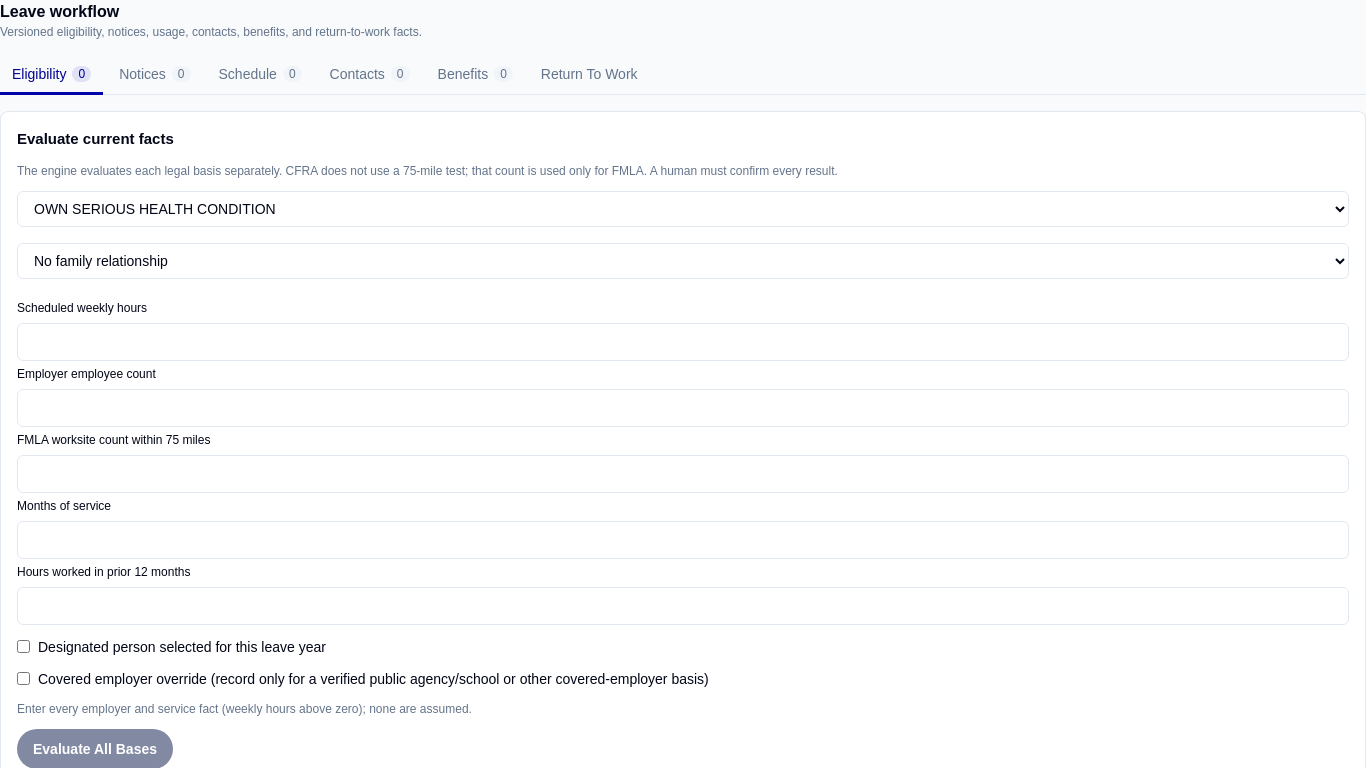
Test: MhdLeaveWorkflowPanel eligibility facts › stays disabled for a negative count or zero weekly hours
Type "30" into the number field labelled "Scheduled weekly hours". click: [683, 342]
box: [17,322,1349,360]
Type "62" into the number field labelled "Employer employee count". click: [683, 408]
box: [17,388,1349,426]
Type "58" into the number field labelled "FMLA worksite count within 75 miles". click: [683, 474]
box: [17,454,1349,492]
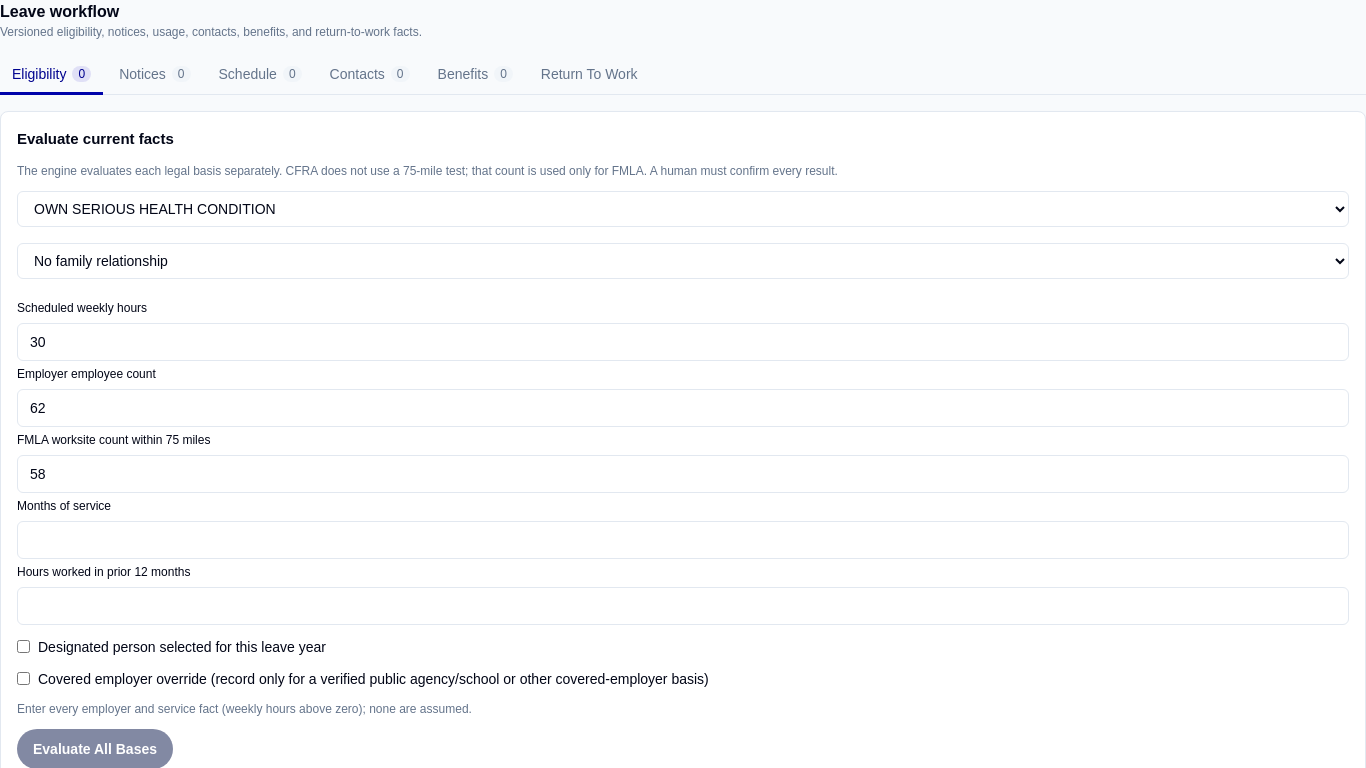
Type "19" into the number field labelled "Months of service". click: [683, 540]
box: [17,520,1349,558]
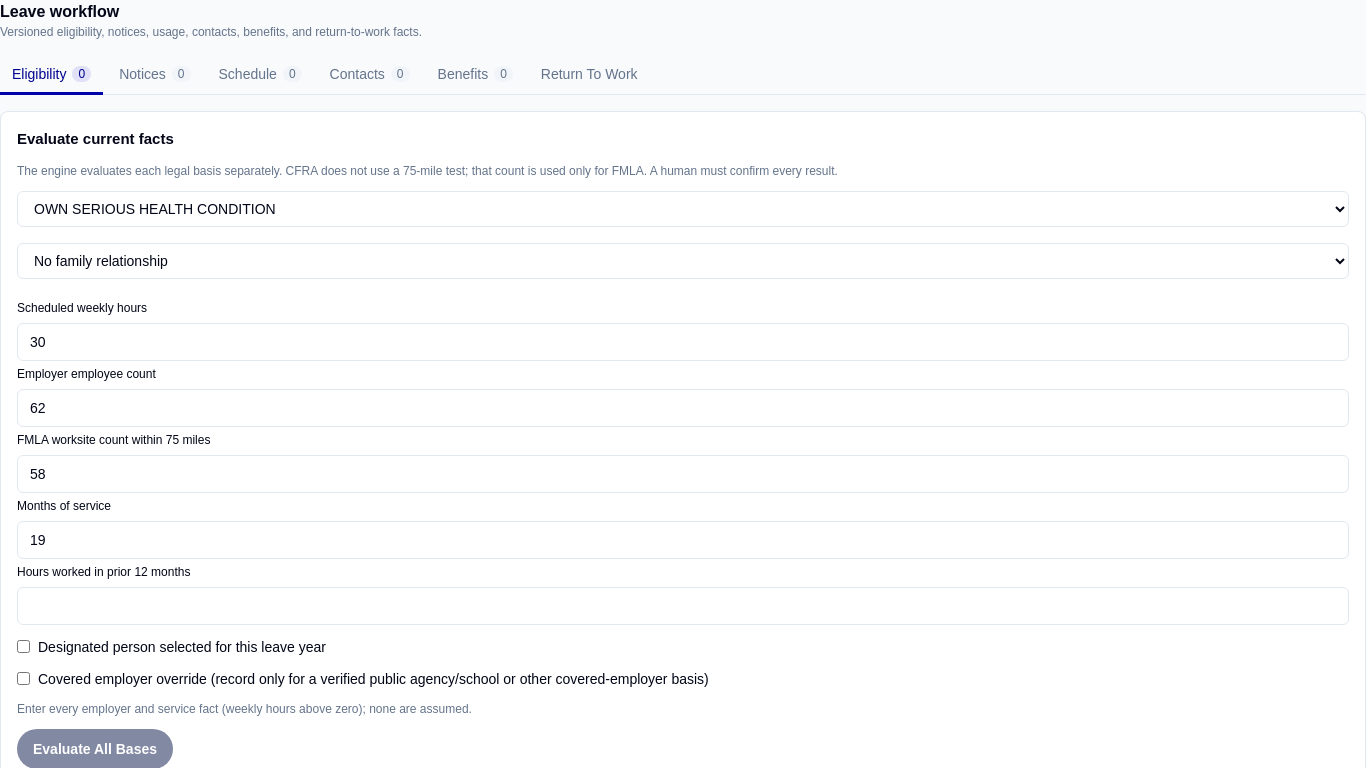
Type "1310" into the number field labelled "Hours worked in prior 12 months". click: [683, 606]
box: [17,586,1349,624]
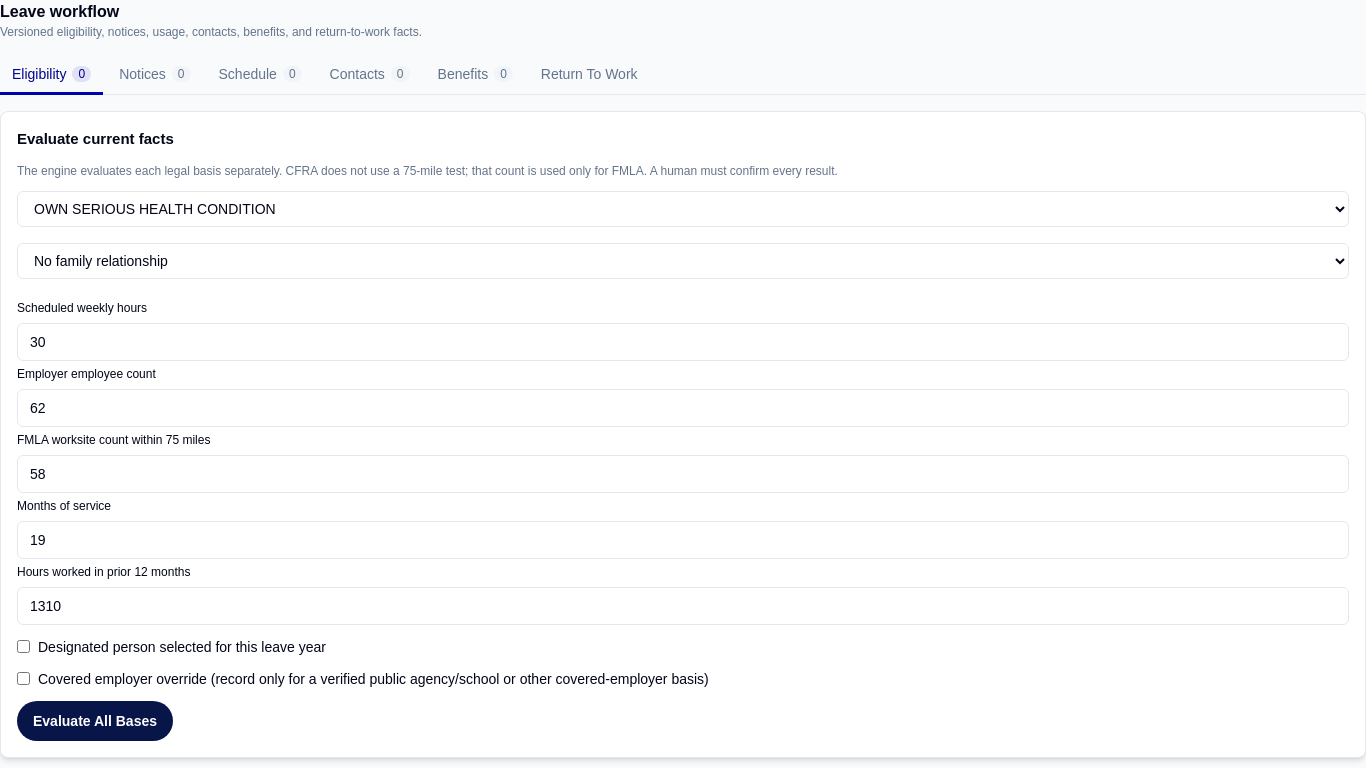
Check: the button "Evaluate all bases" is enabled, box [17,700,173,740]
Replace the text in the number field labelled "Months of service" with "-1". click: [683, 540]
box: [17,520,1349,558]
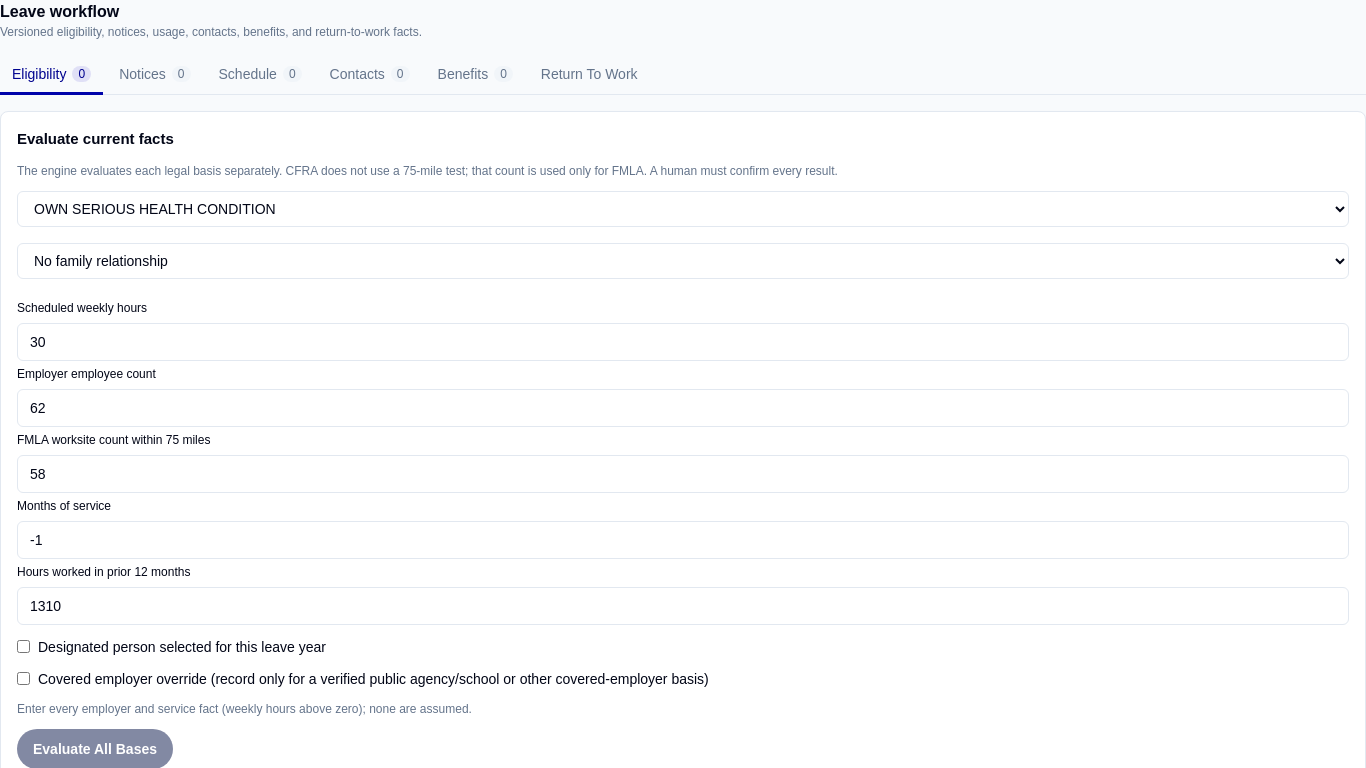
Check: the button "Evaluate all bases" is disabled, box [17,728,173,767]
Replace the text in the number field labelled "Months of service" with "19". click: [683, 540]
box: [17,520,1349,558]
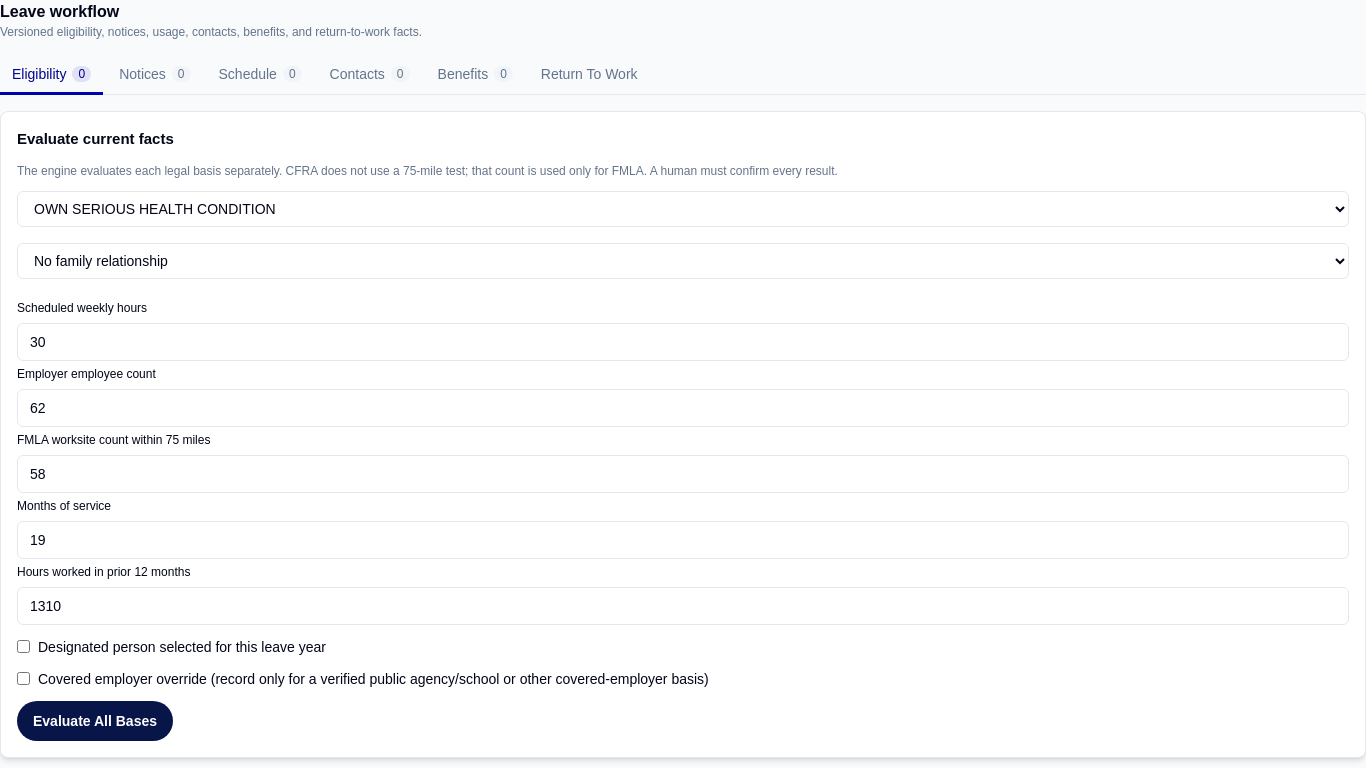
Replace the text in the number field labelled "Scheduled weekly hours" with "0". click: [683, 342]
box: [17,322,1349,360]
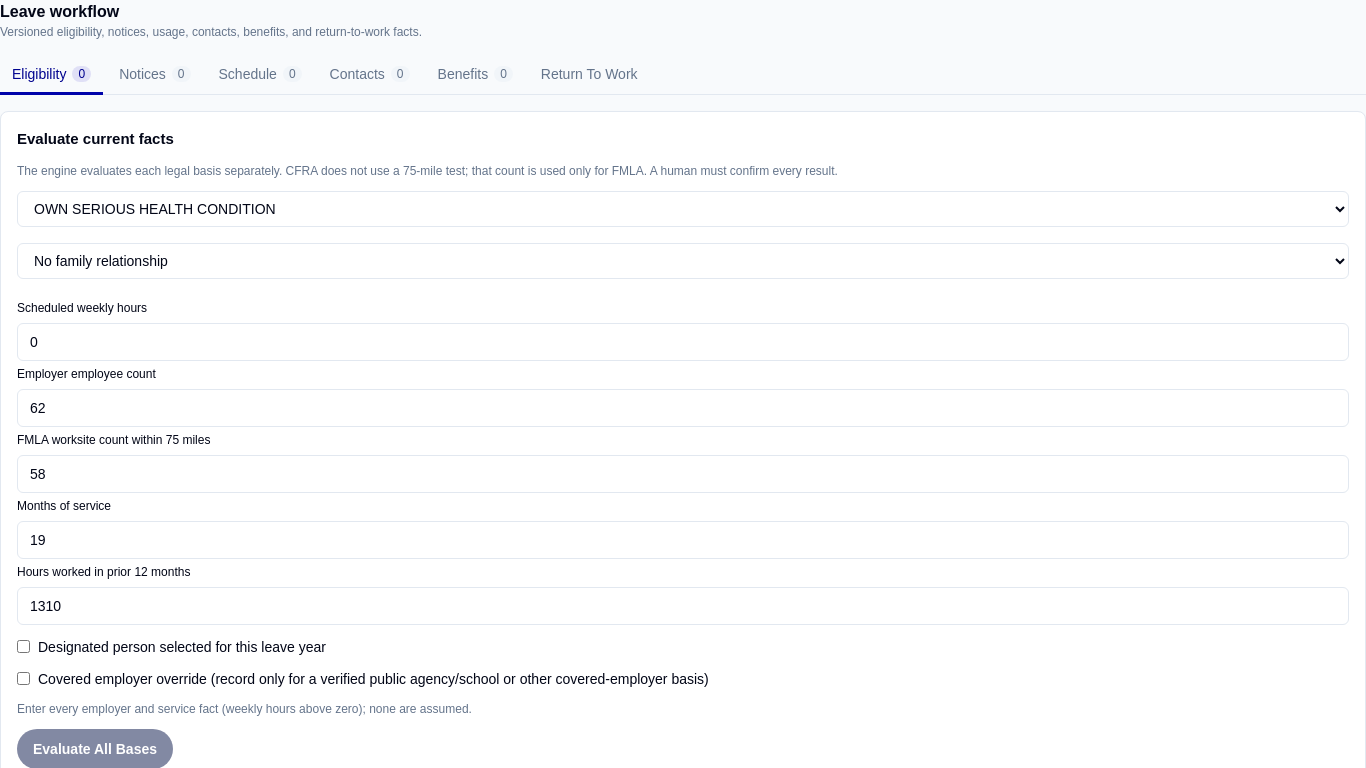
Check: the button "Evaluate all bases" is disabled, box [17,728,173,767]
